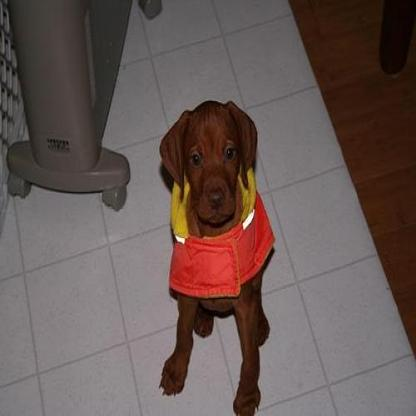vizsla: (156, 93, 272, 414)
